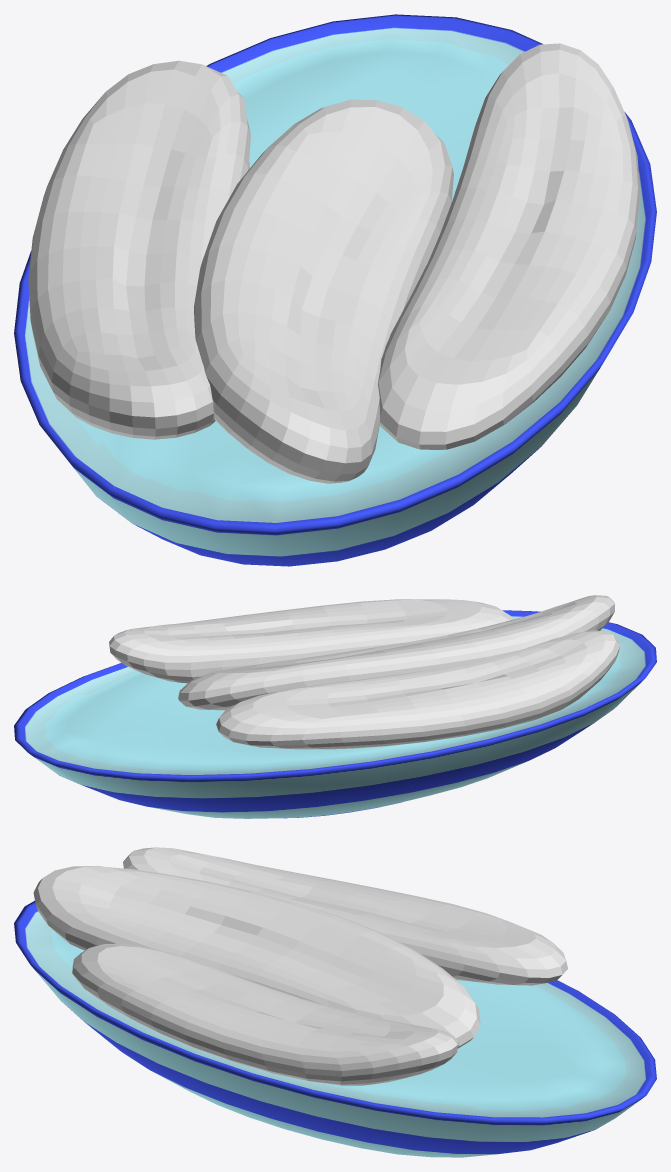
The model's file is Maduro.fbx.
3 views of the same model, one above another, from view 1: azimuth 30°, elevation 25°; view 2: azimuth 150°, elevation 25°; view 3: azimuth 270°, elevation 25° (orthographic). The views are drawn at different scales.
Visible parts, largest first — view 1: arroz.006; view 2: arroz.006; view 3: arroz.006.
Part boxes in pixels (x1,y1,x2,y2): arroz.006: [14, 14, 656, 566]; arroz.006: [14, 595, 656, 818]; arroz.006: [14, 847, 656, 1157].
Size of the model in its own units: 595 by 183 by 673.
Materials: 2 (1 with a texture image).
